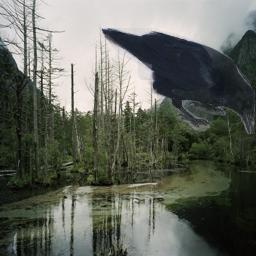Crow: (100, 28, 255, 134)
